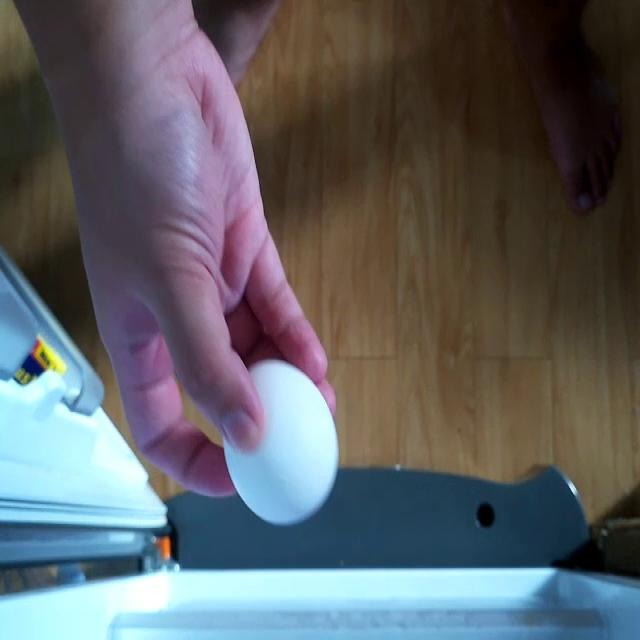egg: (218, 355, 350, 525)
